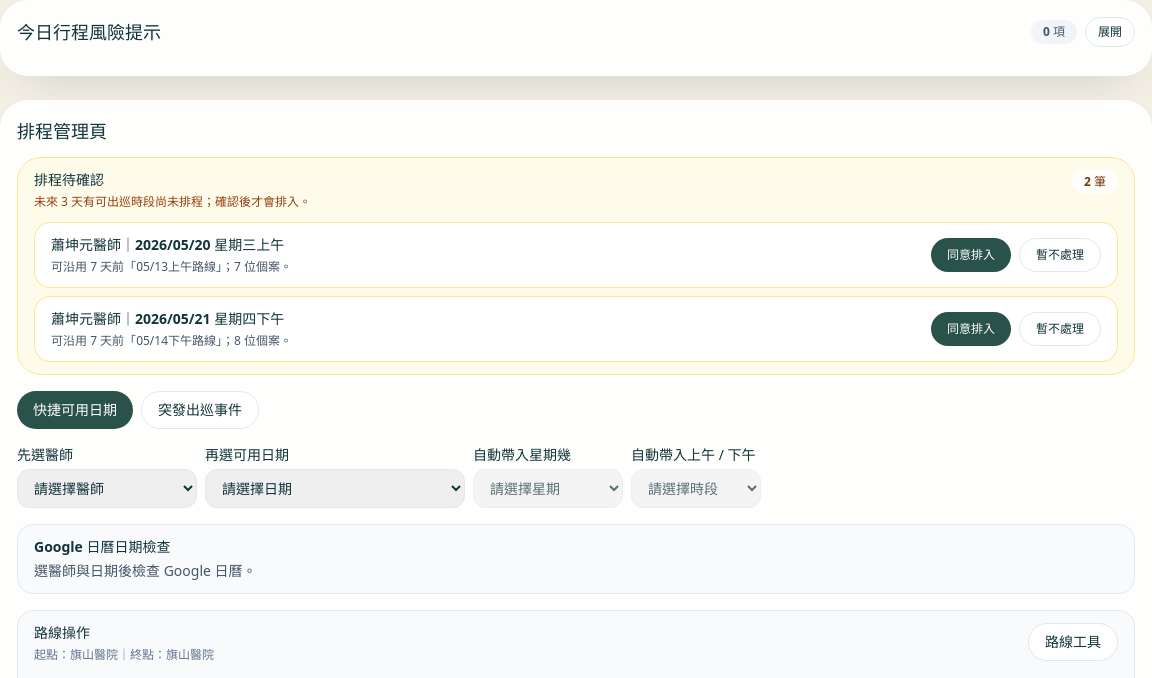
Test: AdminPages › AdminSchedulesPage 今日行程風險提示預設收合，可手動展開
The width and height of the screenshot is (1152, 678).
Expected: the element "今日行程風險提示" is shown, 0,0 -> 1151,76
Click the button "展開" at (1110, 32), box 1085,17 -> 1135,47
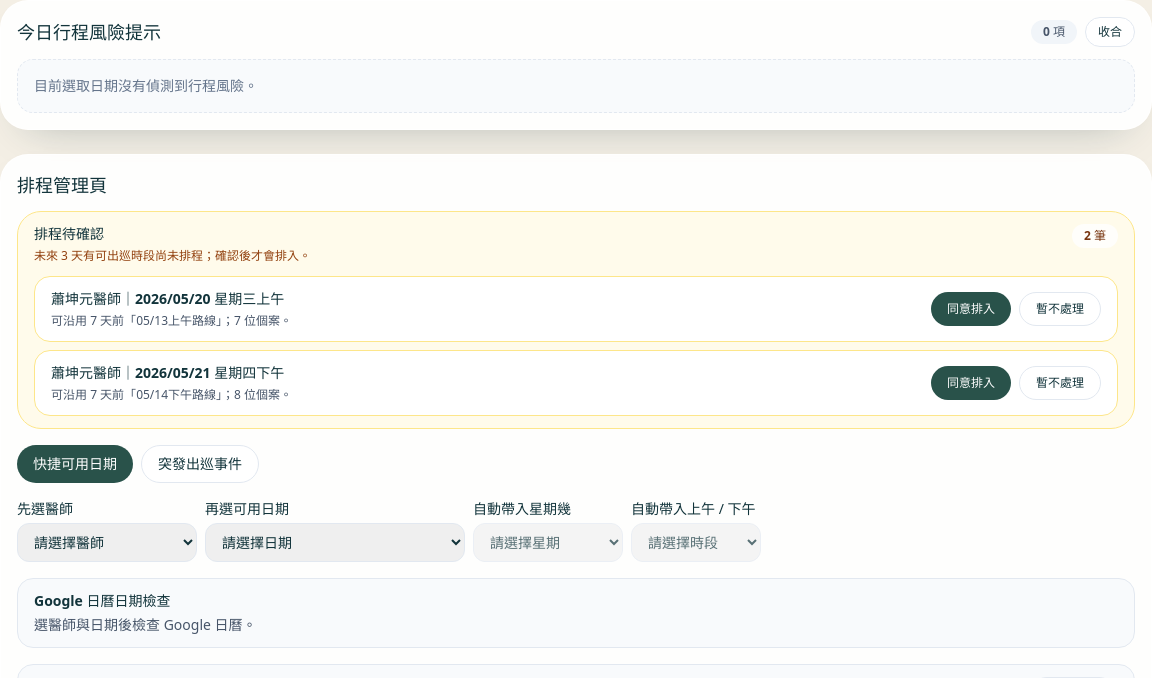
Now the button "收合" is expanded, box 1085,17 -> 1135,47
